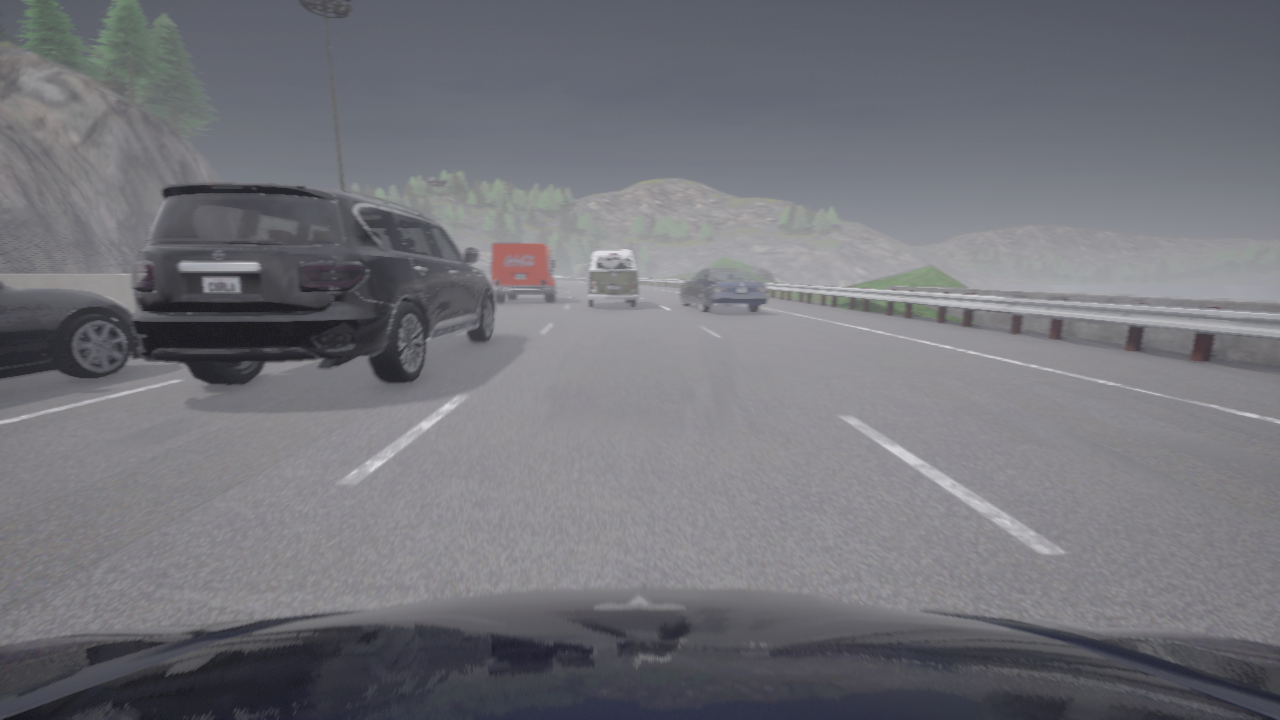cyclist: (0, 588, 1279, 719), (131, 183, 495, 384), (491, 242, 557, 301), (680, 268, 768, 312), (584, 249, 638, 307), (551, 269, 552, 271)
